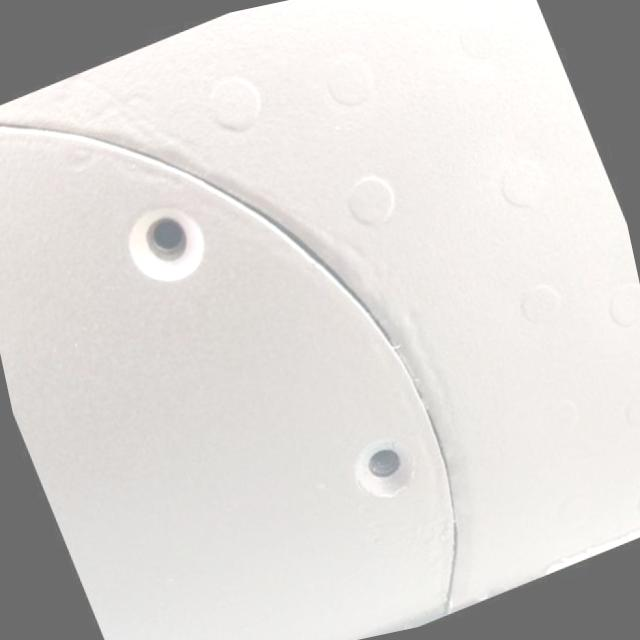Missing Fastener: (119, 201, 208, 287), (346, 432, 420, 503)
